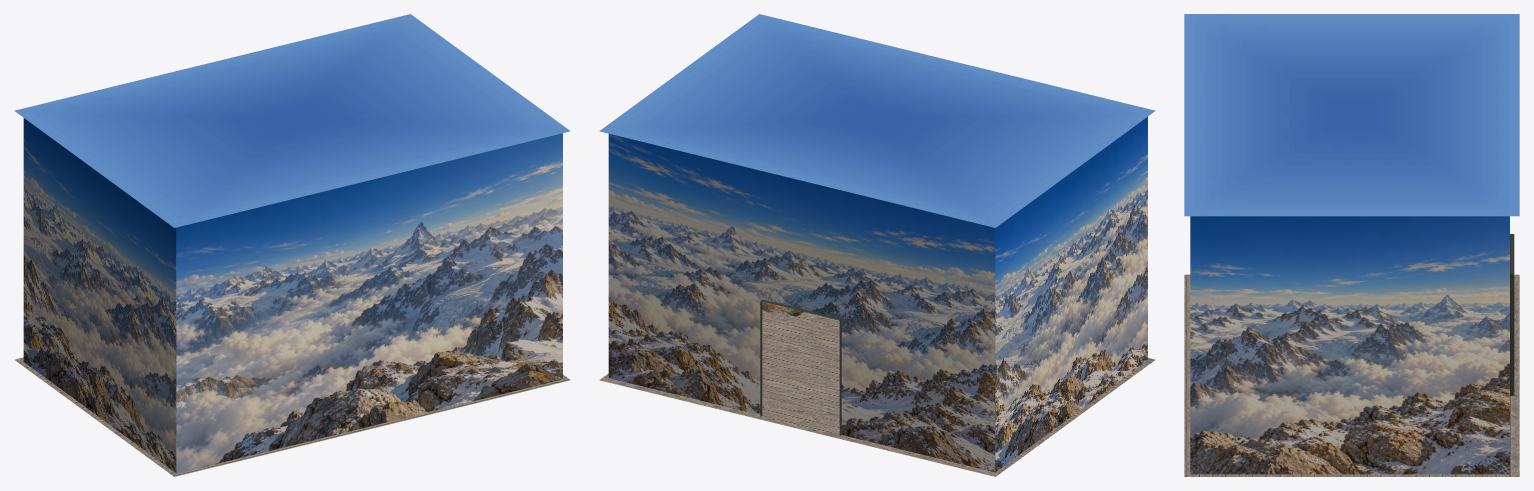
Rendered from alps.glb.
3 views of the same model, side by side, from view 1: azimuth 30°, elevation 25°; view 2: azimuth 150°, elevation 25°; view 3: azimuth 270°, elevation 25° (orthographic). The views are drawn at different scales.
Parts seen in each view (by area): view 1: Mural.alps.back, Mural.alps.ceiling, Mural.alps.right, Floor; view 2: Mural.alps.front, Mural.alps.ceiling, Mural.alps.right, Floor, Trim; view 3: Mural.alps.left, Mural.alps.ceiling, Floor, Trim.
Part boxes in pixels (x1,y1,x2,y2): Mural.alps.back: [176, 133, 562, 473]; Mural.alps.ceiling: [14, 14, 570, 227]; Mural.alps.right: [23, 118, 176, 472]; Floor: [14, 357, 570, 476]; Mural.alps.front: [608, 133, 995, 472]; Mural.alps.ceiling: [599, 14, 1155, 227]; Mural.alps.right: [995, 117, 1147, 471]; Floor: [599, 310, 1155, 476]; Trim: [760, 299, 841, 435]; Mural.alps.left: [1190, 216, 1509, 474]; Mural.alps.ceiling: [1184, 14, 1519, 216]; Floor: [1184, 274, 1519, 476]; Trim: [1510, 234, 1514, 395].
Bounding box in the file's own units: 10 × 6.17 × 7.
16 materials, 12 textured.
